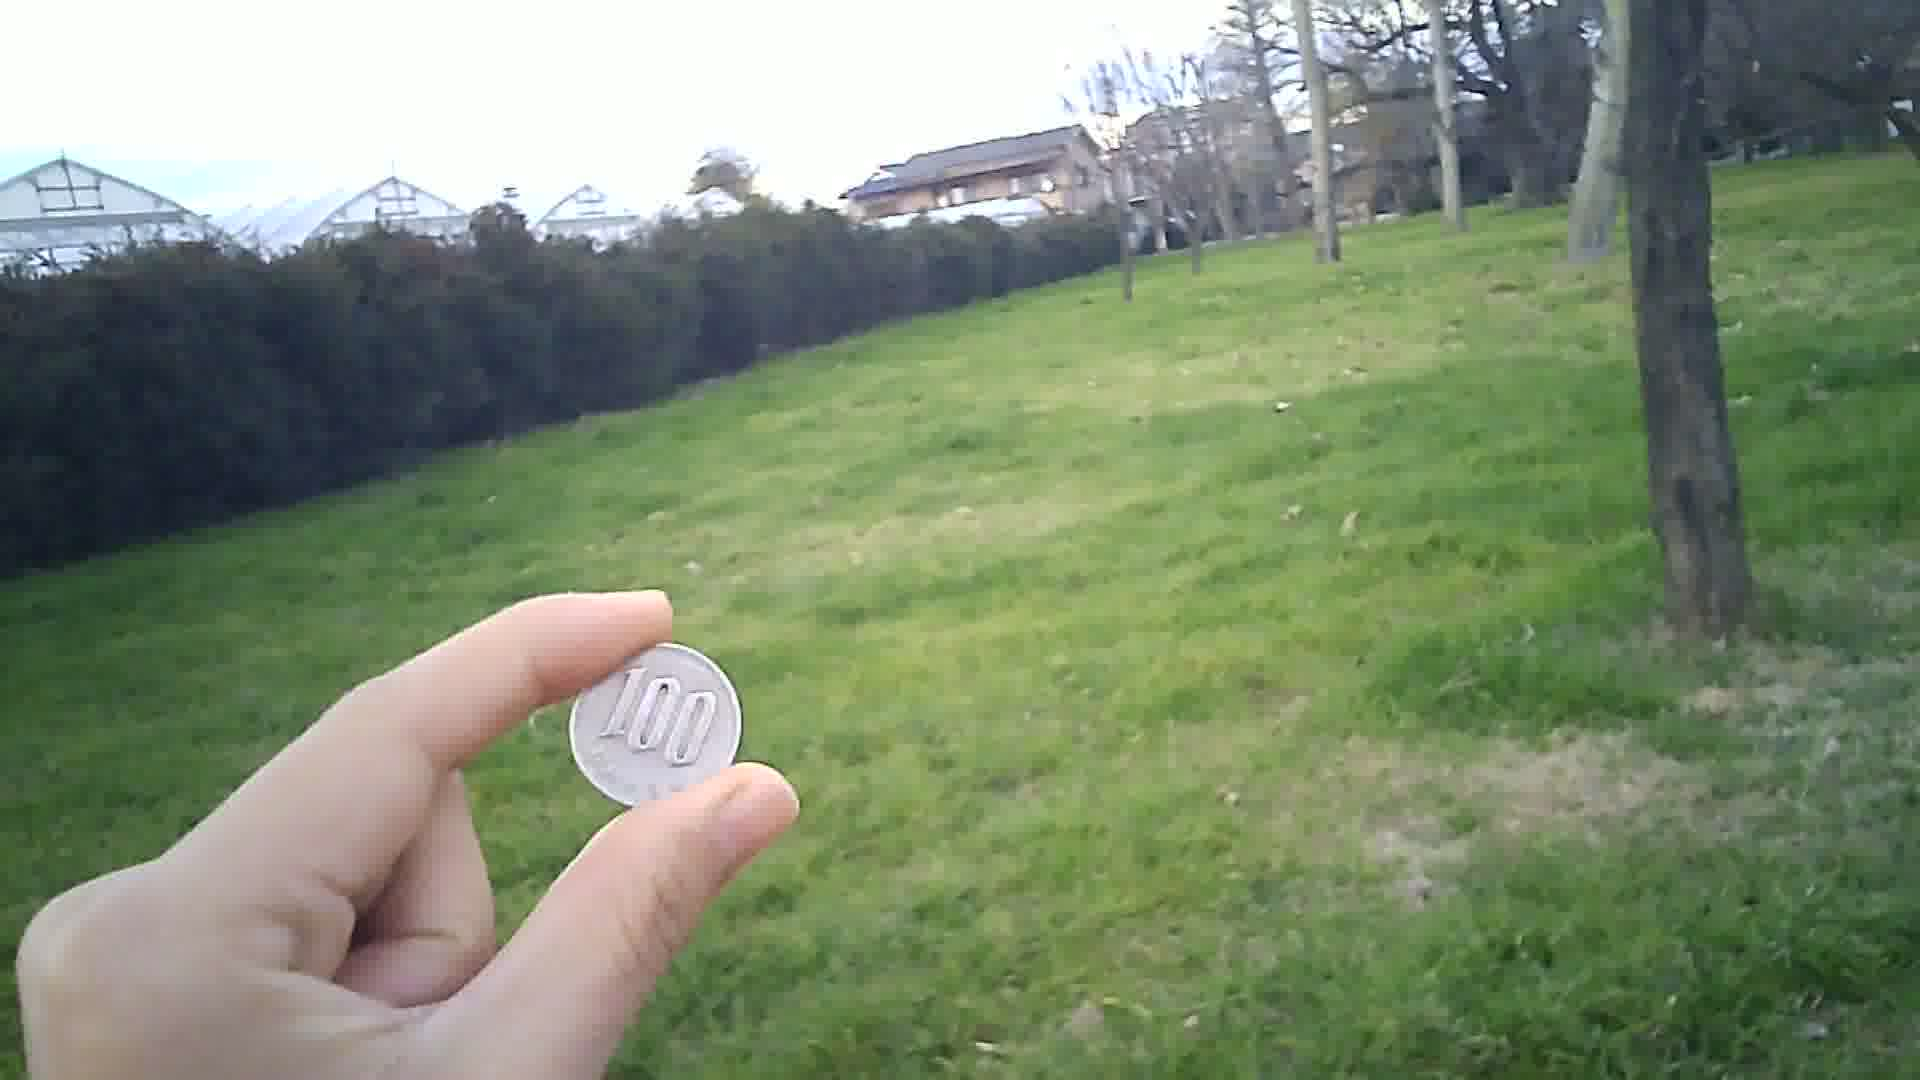100 Yen: (568, 632, 742, 815)
